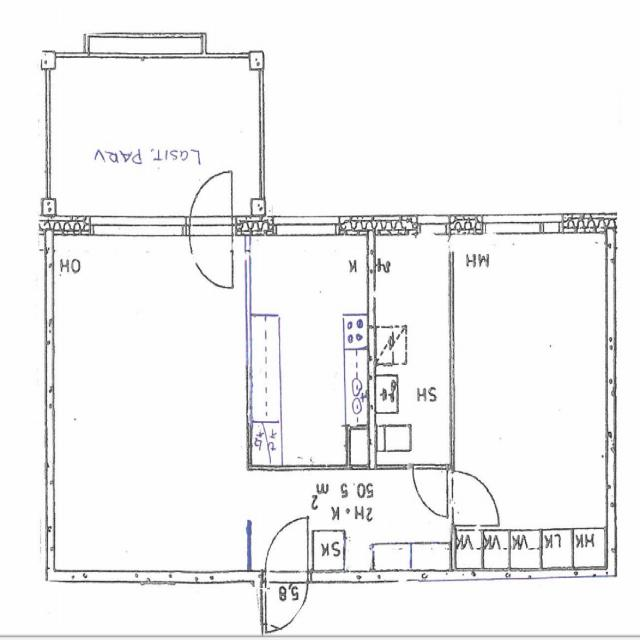door: (189, 216, 231, 287), (189, 163, 231, 234), (448, 472, 498, 526), (266, 518, 308, 581), (266, 570, 308, 632), (412, 463, 446, 513)
